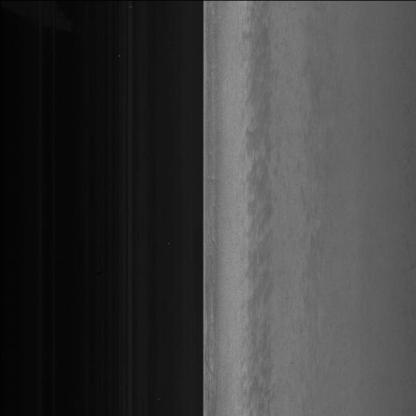silk_spot: (232, 132, 284, 246)
